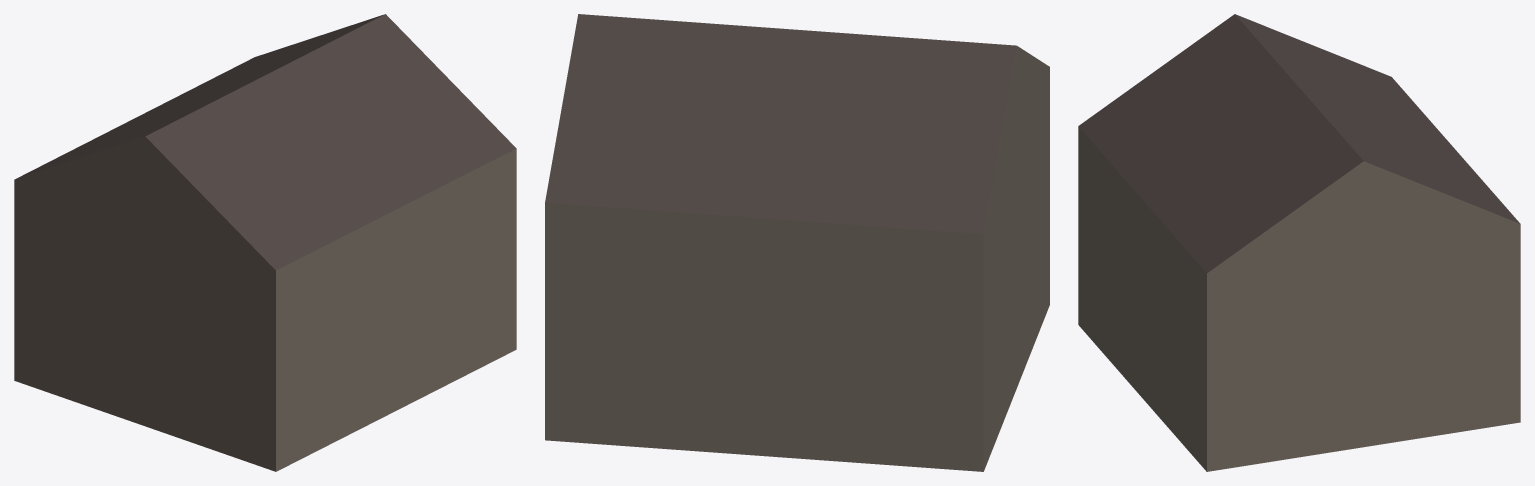
The picture shows the model from 3 angles, left to right: view 1: azimuth 30°, elevation 25°; view 2: azimuth 150°, elevation 25°; view 3: azimuth 270°, elevation 25°; orthographic projection. The views are drawn at different scales.
Parts seen in each view (by area): view 1: HP-w776800987; view 2: HP-w776800987; view 3: HP-w776800987.
Part boxes in pixels (x1,y1,x2,y2): HP-w776800987: (14,14,516,471); HP-w776800987: (545,14,1049,471); HP-w776800987: (1078,14,1520,471).
Bounding box in the file's own units: 12.76 × 8.65 × 12.13.
